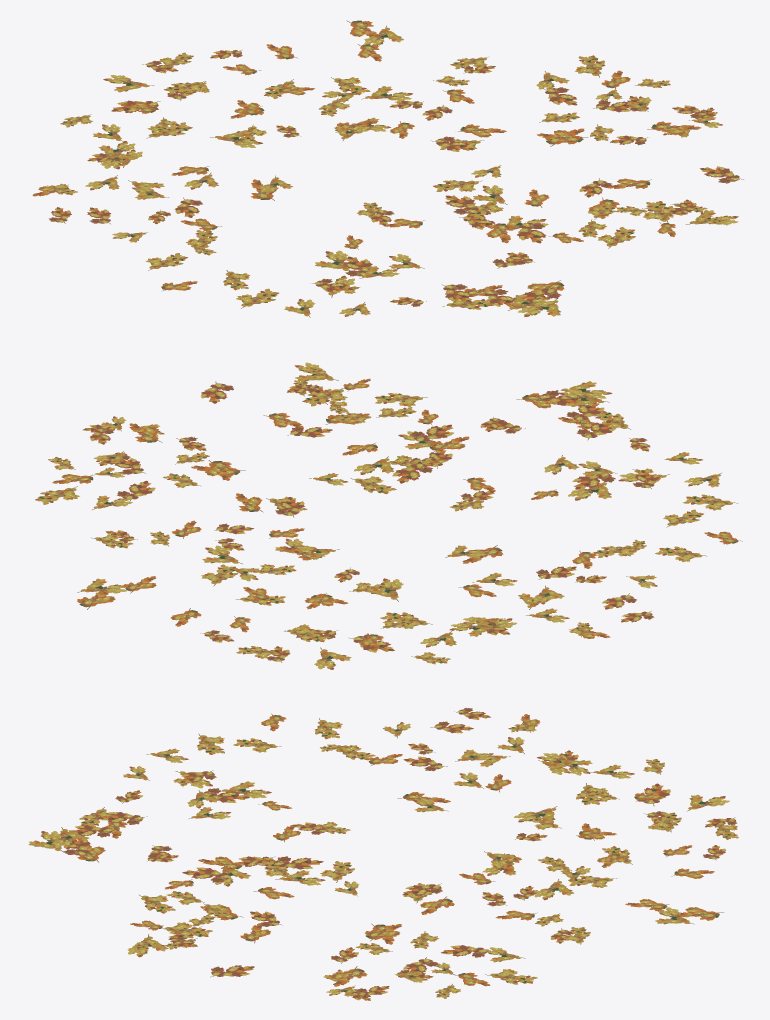
File: poirier_adulte_d.fbx
3 renders of one model, top to bottom at view 1: azimuth 30°, elevation 25°; view 2: azimuth 150°, elevation 25°; view 3: azimuth 270°, elevation 25°, orthographic. The views are drawn at different scales.
Visible parts, largest first — view 1: poirier_adulte_d_feuilles_sol; view 2: poirier_adulte_d_feuilles_sol; view 3: poirier_adulte_d_feuilles_sol.
Boxes of the visible parts, box(x1,y1,x2,y2) form: poirier_adulte_d_feuilles_sol: box(32, 20, 743, 317); poirier_adulte_d_feuilles_sol: box(35, 362, 742, 669); poirier_adulte_d_feuilles_sol: box(28, 708, 738, 1000).
Size of what is drawn, in the model's own units: 5.51 by 0.00597 by 5.7.
